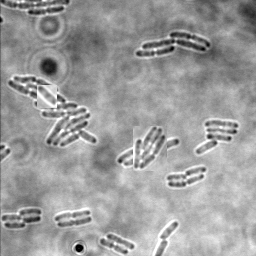Dividing: (167, 175, 204, 189), (99, 238, 128, 255), (54, 209, 90, 222), (56, 217, 92, 228), (27, 7, 64, 17)
Microcolony: (7, 76, 98, 147), (135, 32, 211, 57), (133, 126, 167, 171), (195, 120, 238, 155), (1, 208, 42, 229)
Rod: (106, 233, 135, 251), (37, 85, 57, 108), (157, 222, 178, 240), (184, 167, 206, 177), (166, 174, 187, 183)
